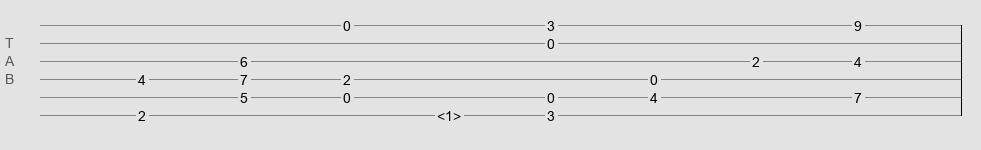0: (343, 90, 351, 100), (343, 18, 351, 28), (547, 36, 555, 46), (547, 90, 555, 100), (650, 72, 658, 82)
2: (138, 108, 146, 118), (343, 72, 351, 82), (752, 54, 760, 64)
3: (547, 18, 555, 28), (547, 108, 555, 118)
4: (138, 72, 146, 82), (650, 90, 658, 100), (854, 54, 862, 64)
5: (240, 90, 248, 100)
6: (240, 54, 248, 64)
7: (240, 72, 248, 82), (854, 90, 862, 100)
9: (854, 18, 862, 28)
harmonic: (437, 108, 461, 118)
